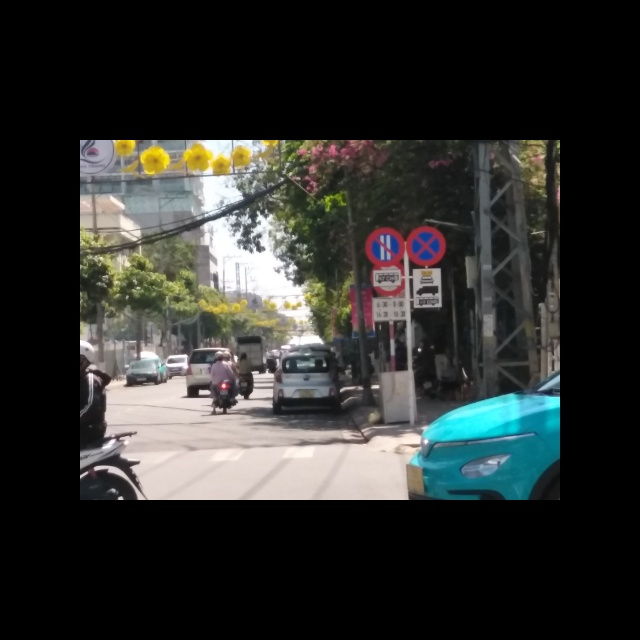Cấm dừng xe và đỗ xe: (406, 225, 446, 266)
Cấm đỗ xe ngày chẵn: (364, 226, 406, 267)
